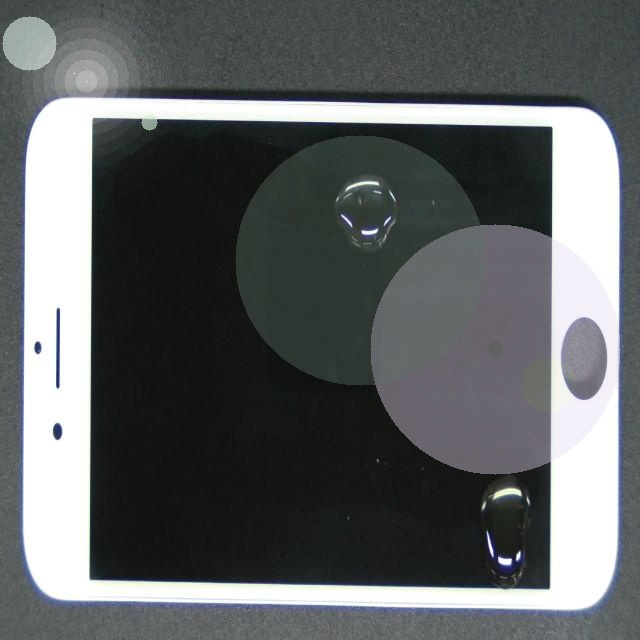oil: (263, 341, 640, 640), (207, 139, 599, 307)
